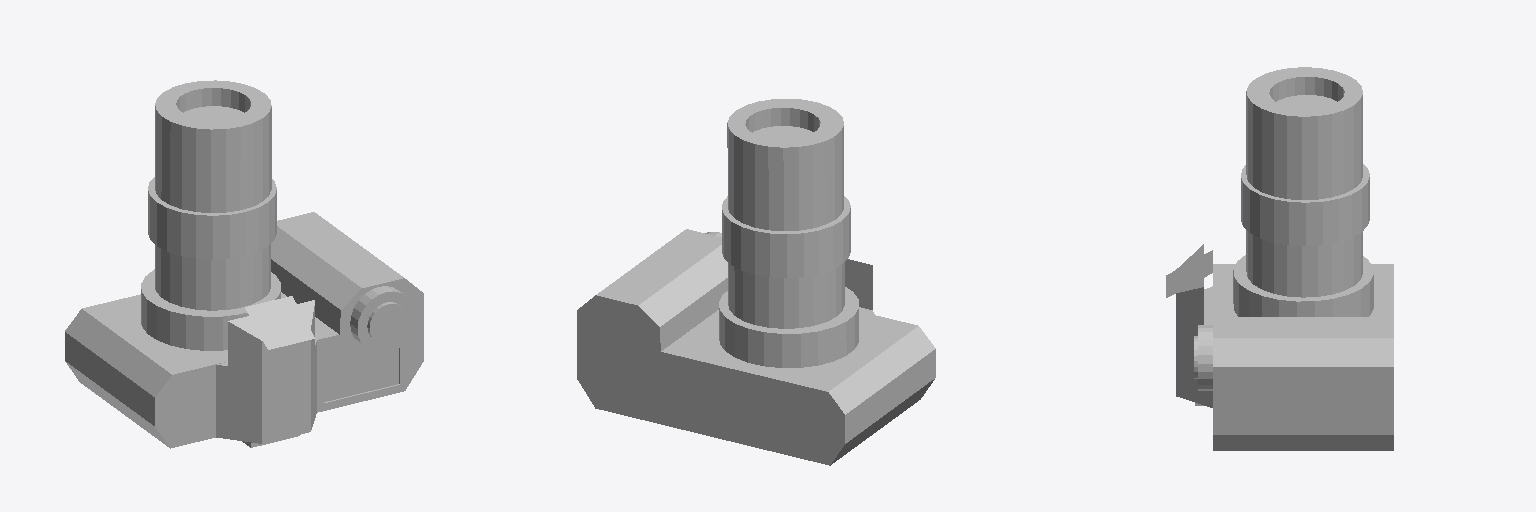
Rendered from model_scale.obj.
The picture shows the model from 3 angles: view 1: azimuth 30°, elevation 25°; view 2: azimuth 150°, elevation 25°; view 3: azimuth 270°, elevation 25°; orthographic projection.
Visible parts, largest first — view 1: mesh1_mesh1-geometry, mesh3_mesh3-geometry; view 2: mesh1_mesh1-geometry; view 3: mesh1_mesh1-geometry, mesh3_mesh3-geometry.
Part boxes in pixels (x1,y1,x2,y2): mesh1_mesh1-geometry: (65,80,423,448); mesh3_mesh3-geometry: (245,296,314,349); mesh1_mesh1-geometry: (577,99,935,465); mesh1_mesh1-geometry: (1176,67,1393,450); mesh3_mesh3-geometry: (1166,250,1212,297).
Size of the model in its own units: 0.1579 by 0.1679 by 0.1161.